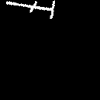double_crochet: (6, 1, 54, 18)
